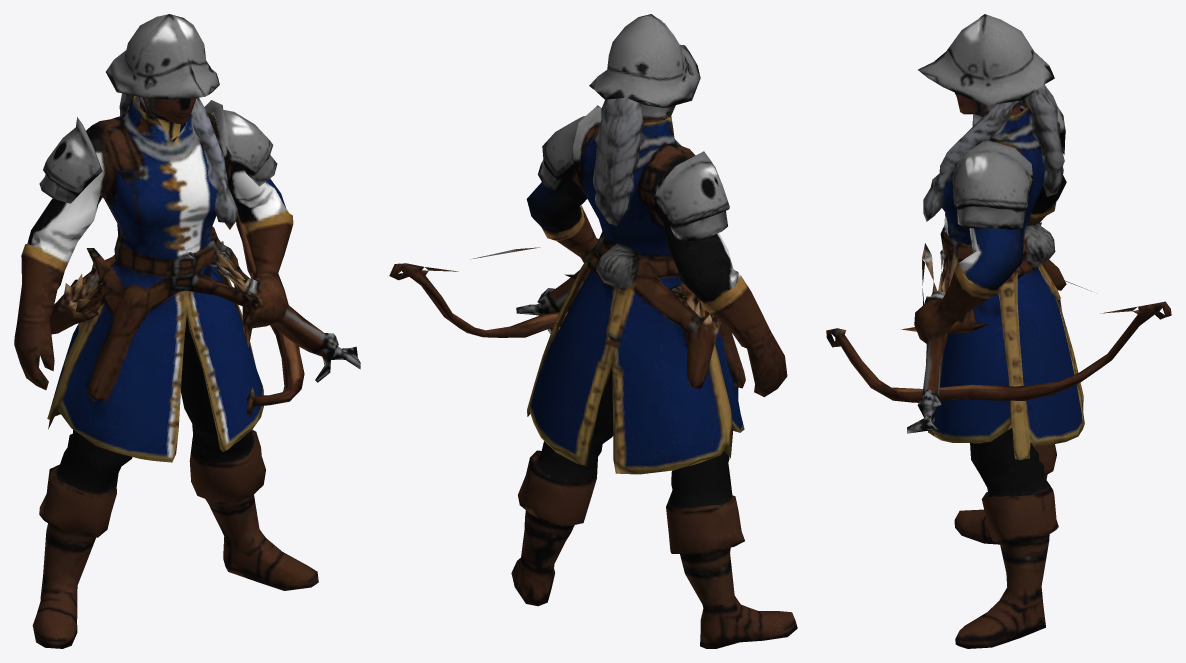
Rendered from crossbowmen_ready.glb.
3 views of the same model, side by side, from view 1: azimuth 30°, elevation 25°; view 2: azimuth 150°, elevation 25°; view 3: azimuth 270°, elevation 25° (orthographic). The views are drawn at different scales.
Visible parts, largest first — view 1: world; view 2: world; view 3: world.
Part boxes in pixels (x1,y1,x2,y2): world: (14, 14, 360, 648); world: (389, 14, 797, 648); world: (826, 14, 1171, 648).
Bounding box in the file's own units: 0.5386 × 1 × 0.5451.
1 material, 1 textured.
